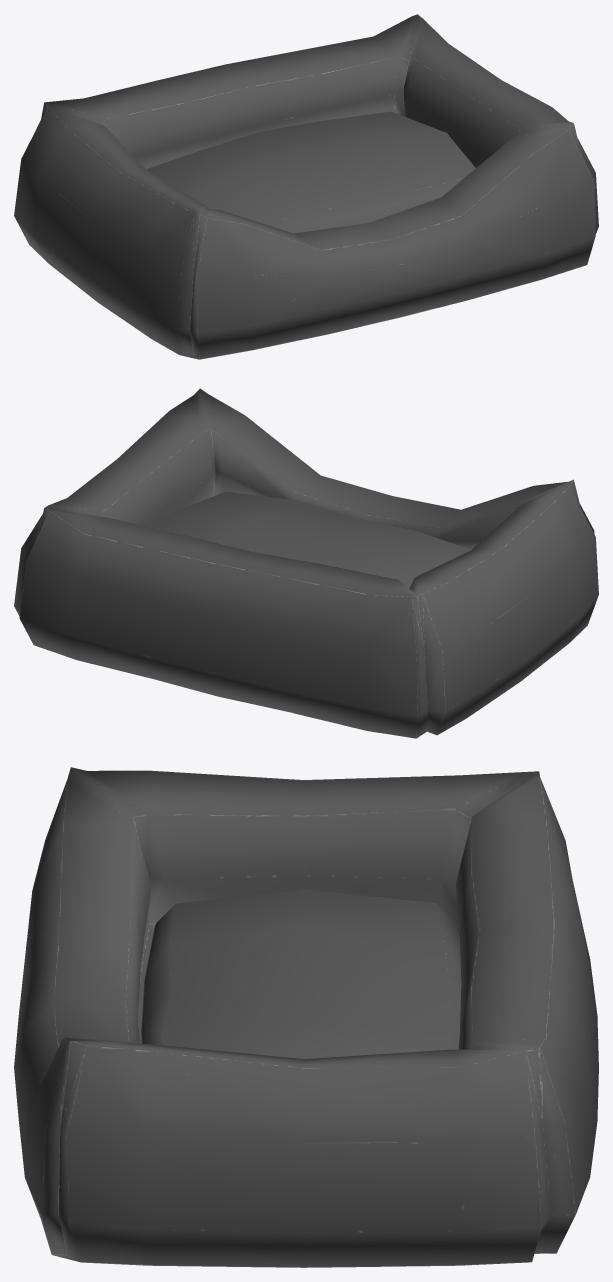
The model's file is bed.glb.
The picture shows the model from 3 angles, top to bottom: view 1: azimuth 30°, elevation 25°; view 2: azimuth 150°, elevation 25°; view 3: azimuth 270°, elevation 25°; orthographic projection. The views are drawn at different scales.
Parts seen in each view (by area): view 1: node_id34, node_id36; view 2: node_id34, node_id36; view 3: node_id34, node_id36.
Part boxes in pixels (x1,y1,x2,y2): node_id34: (14,14,598,359); node_id36: (146,111,475,233); node_id34: (14,388,598,738); node_id36: (159,491,471,588); node_id34: (14,767,598,1267); node_id36: (141,889,461,1058).
Size of the model in its own units: 0.6088 by 0.1825 by 0.4576.
2 materials, 2 textured.
